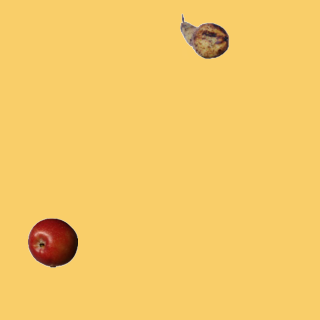Apple Braeburn: (27, 217, 77, 267)
Pear Abate: (179, 11, 229, 61)
